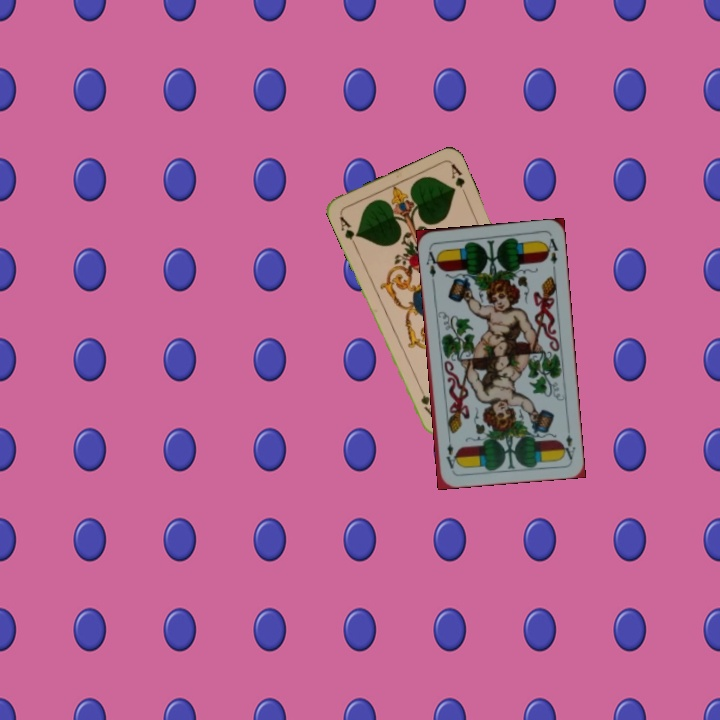EA: (558, 422, 578, 462), (422, 244, 442, 279)
GA: (335, 210, 361, 249)
